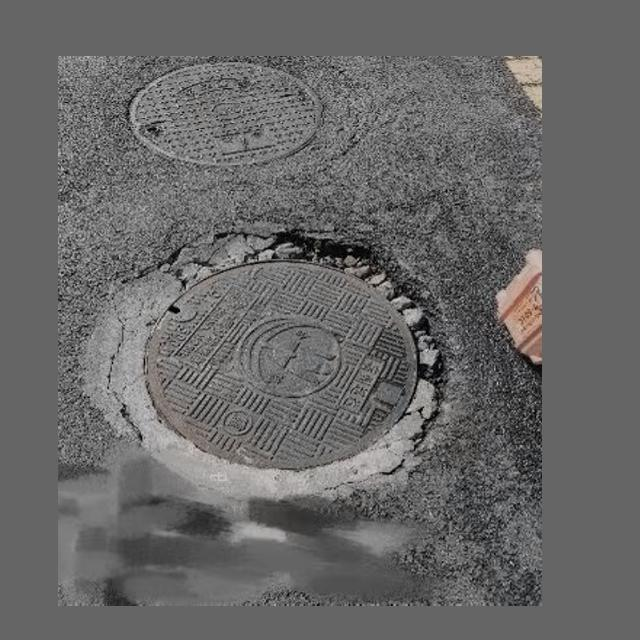circle: (88, 231, 446, 510)
good: (123, 60, 326, 167)
